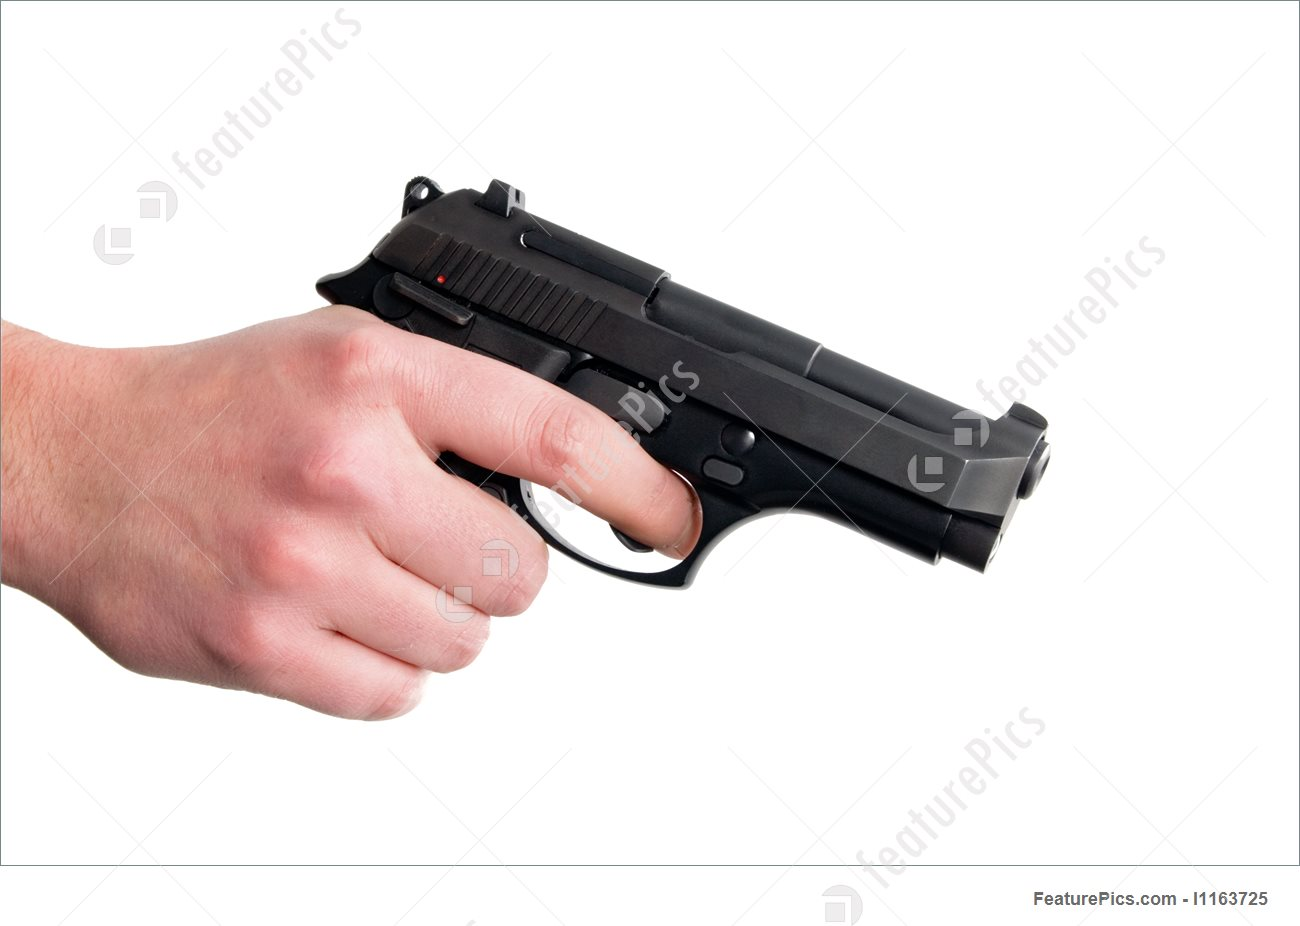pistol: (1, 123, 1082, 791)
